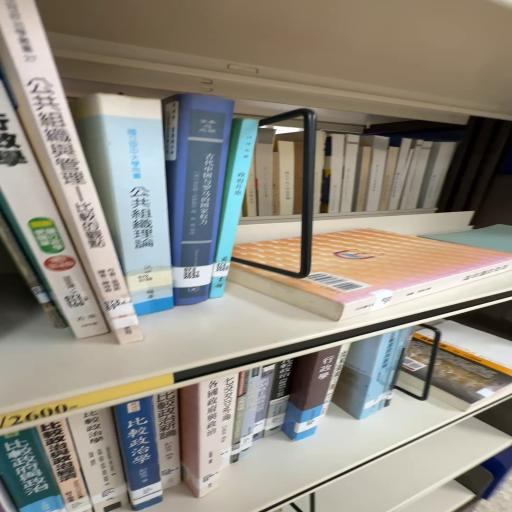flat: (216, 227, 510, 323)
